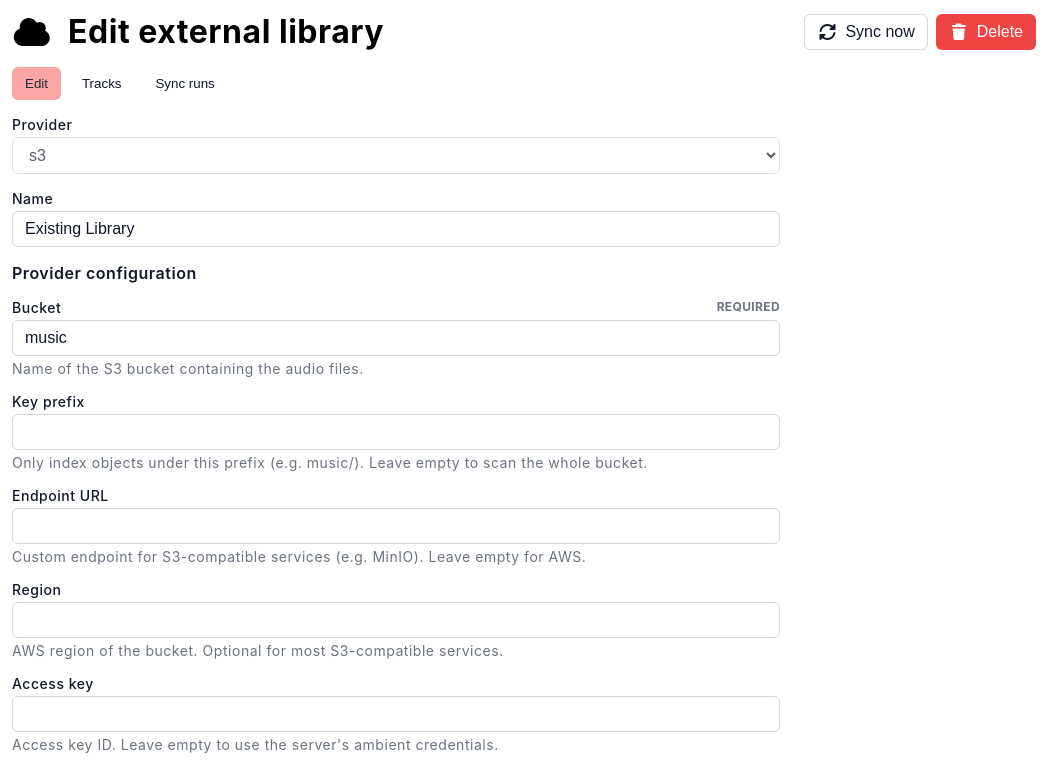
ExternalLibraryEditView › renders tracks as cards
This screenshot has width=1048, height=770.
Click the tab "Tracks": [102, 84] box left=69, top=67, right=134, bottom=100
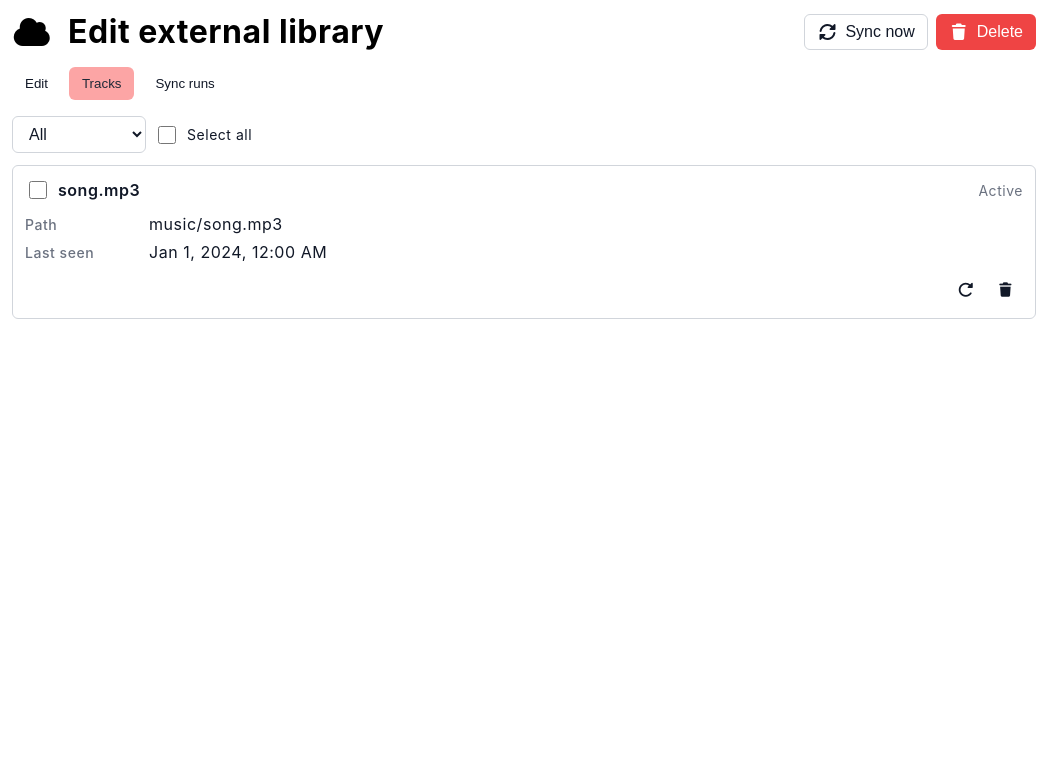
Expected: the number of list items with class "external-library-edit-view__track-card" is 1, left=12, top=165, right=1036, bottom=319
Expected: the list item with class "external-library-edit-view__track-card" shows "song.mp3", left=58, top=180, right=140, bottom=200
Expected: the list item with class "external-library-edit-view__track-card" shows "active", left=978, top=182, right=1023, bottom=198
